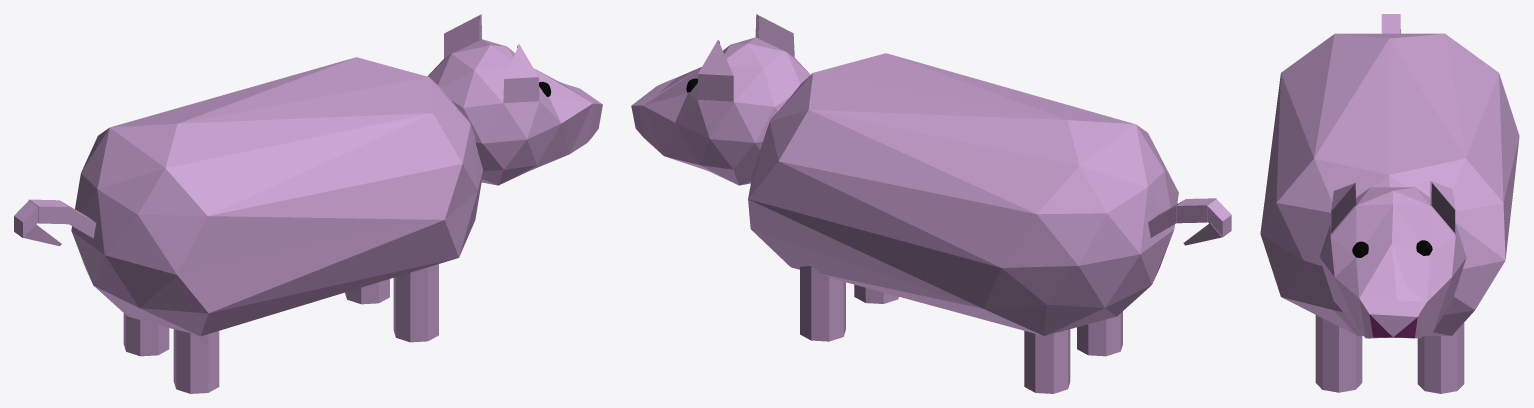
The model's file is PIG_eyes.fbx.
3 views of the same model, side by side, from view 1: azimuth 30°, elevation 25°; view 2: azimuth 150°, elevation 25°; view 3: azimuth 270°, elevation 25° (orthographic).
Visible parts, largest first — view 1: Eye; view 2: Eye; view 3: Eye.
Part boxes in pixels (x1,y1,x2,y2): Eye: (14, 14, 602, 393); Eye: (631, 14, 1231, 393); Eye: (1260, 14, 1519, 393).
Bounding box in the file's own units: 614 × 263 × 241.
